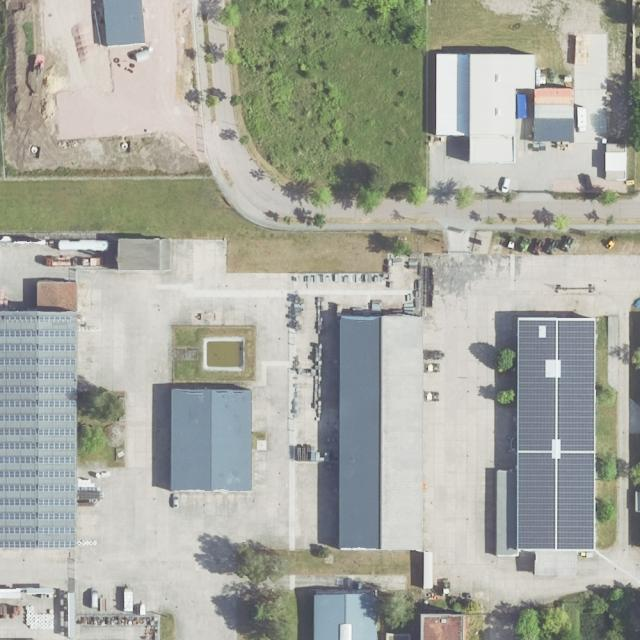PV: (0, 312, 79, 552), (518, 318, 597, 552)
